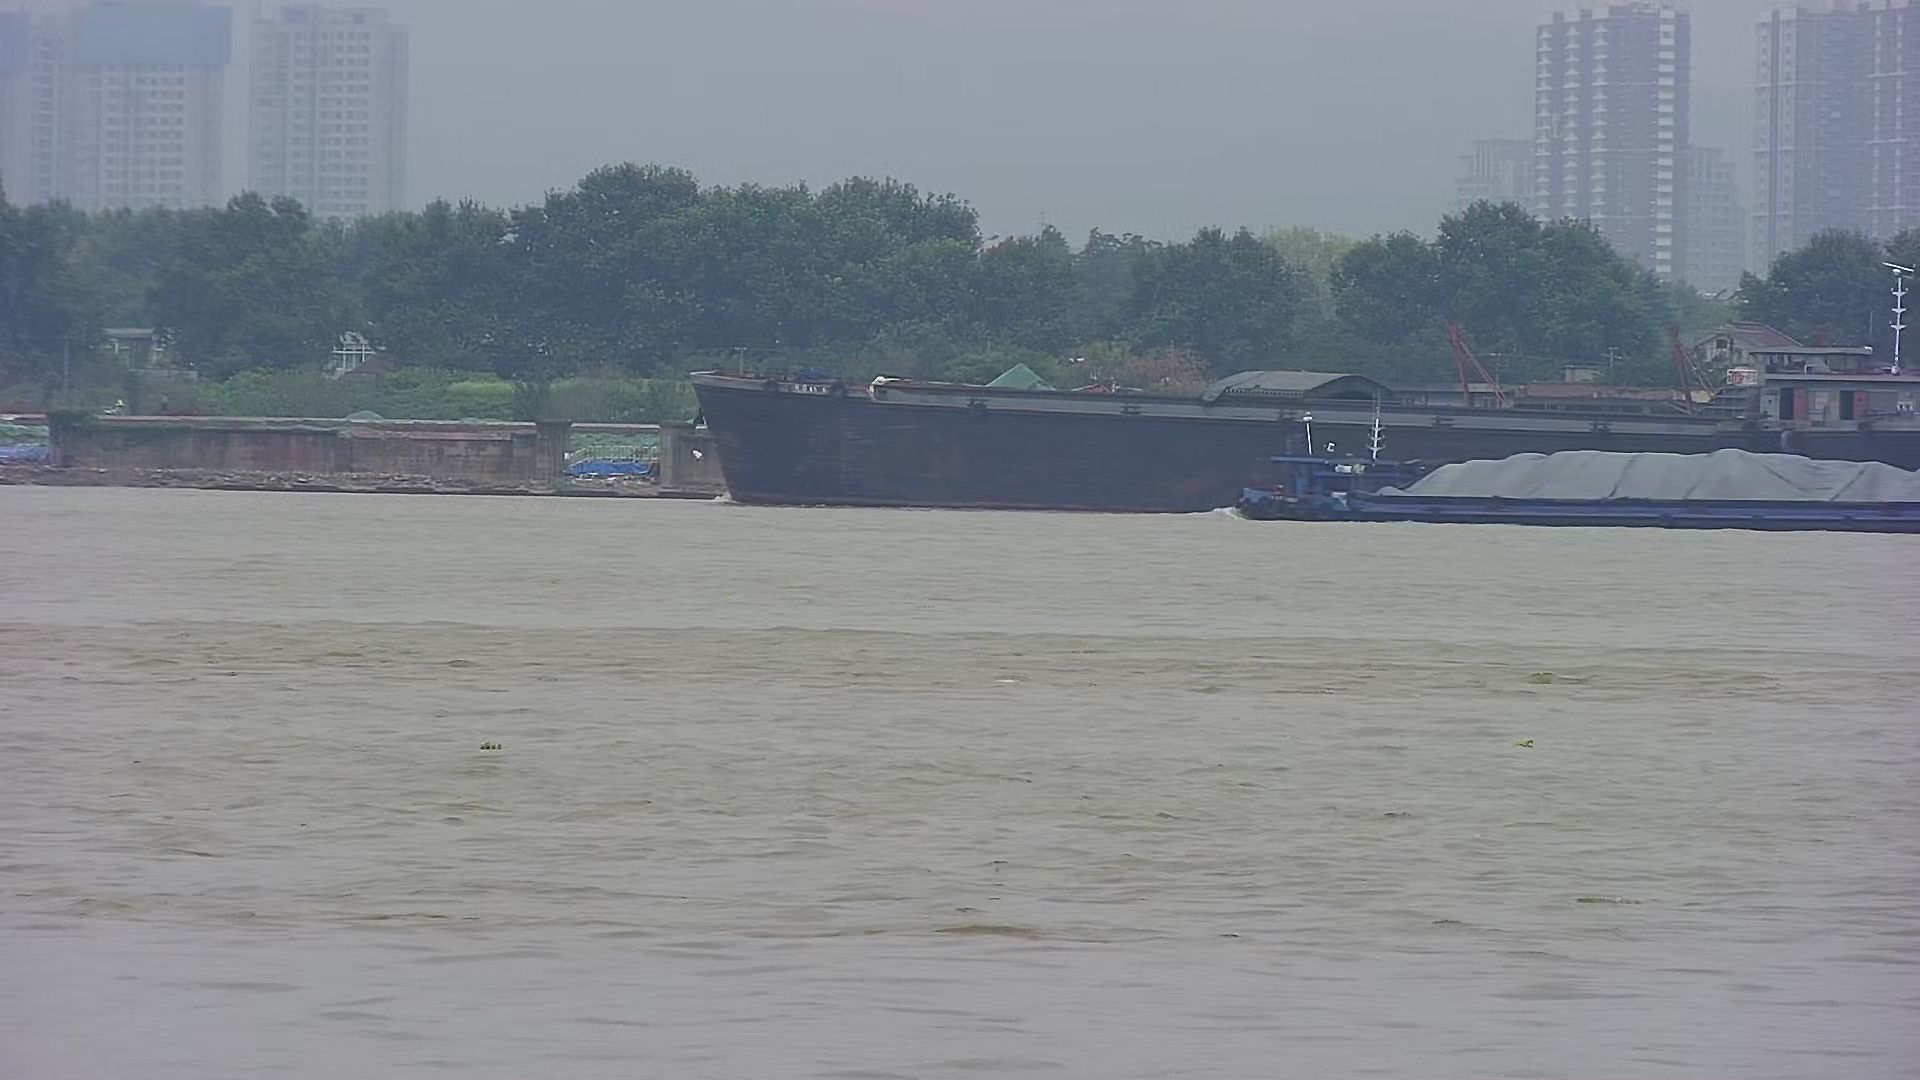ship: (674, 262, 1917, 516), (1220, 404, 1920, 534)
